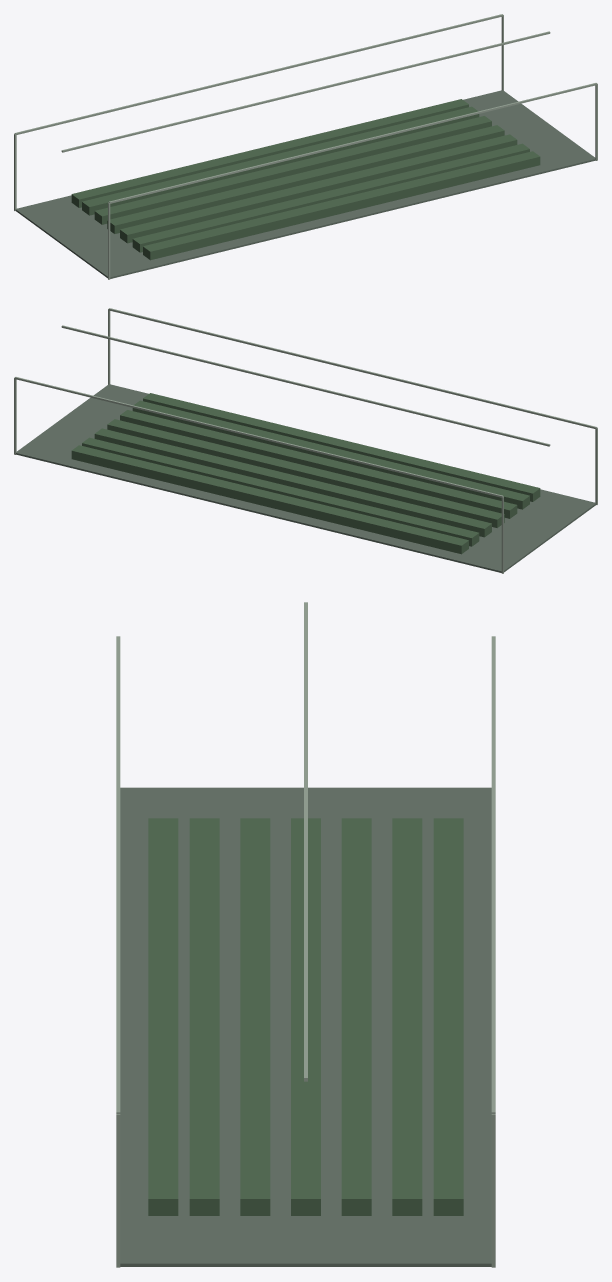
File: greenhouse_bay_30000x10000_concept.obj
The picture shows the model from 3 angles, top to bottom: view 1: azimuth 30°, elevation 25°; view 2: azimuth 150°, elevation 25°; view 3: azimuth 270°, elevation 25°; orthographic projection. The views are drawn at different scales.
Visible parts, largest first — view 1: growing_bed, floor_reference, eave_beam, ridge_beam, post; view 2: growing_bed, floor_reference, eave_beam, ridge_beam, post; view 3: floor_reference, growing_bed, eave_beam, ridge_beam, post.
Boxes of the visible parts, x1,y1,x2,y2 form: growing_bed: (71,99,540,260); floor_reference: (15,90,595,278); eave_beam: (14,14,597,203); ridge_beam: (61,31,550,152); post: (14,15,597,279); growing_bed: (71,393,540,554); floor_reference: (16,384,596,572); eave_beam: (14,308,597,497); ridge_beam: (61,325,550,446); post: (14,309,597,573); floor_reference: (120,787,491,1266); growing_bed: (148,818,463,1215); eave_beam: (116,636,495,1113); ridge_beam: (304,602,307,1081); post: (116,1114,495,1267).
Bounding box in the file's own units: 30.1 × 5.55 × 10.1.
